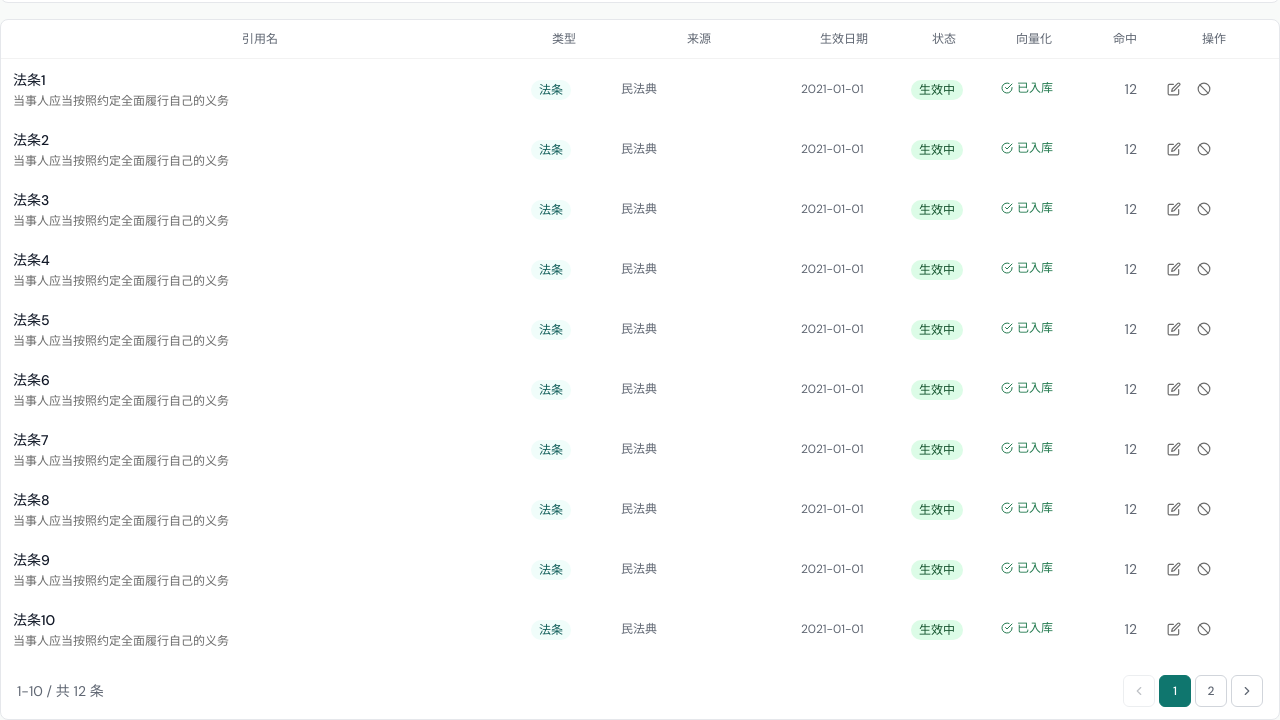
Test case: LawLibraryView 列表与筛选 › 超过一页时分页
(page scrolled)
Click the button "2" at {"x": 1211, "y": 691}, box [1195,675,1227,707]
(page scrolled)
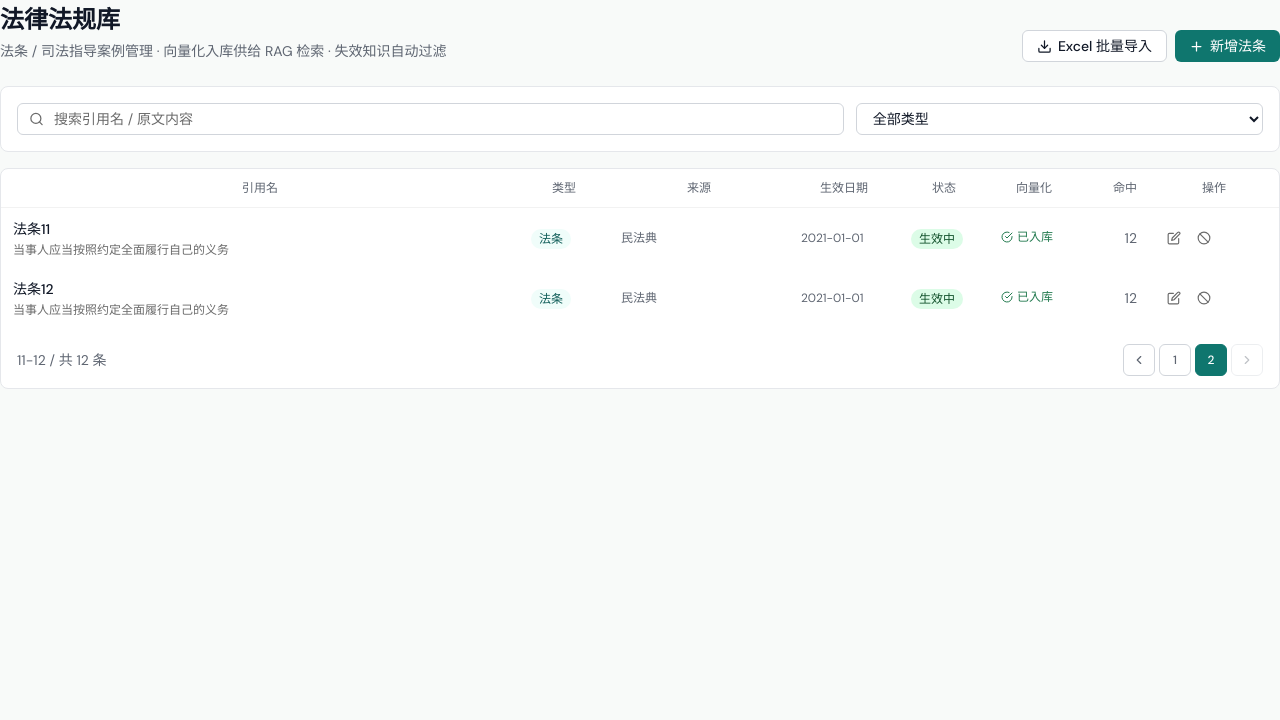
Result: the text "法条11" is shown at [13,218,50,240]
